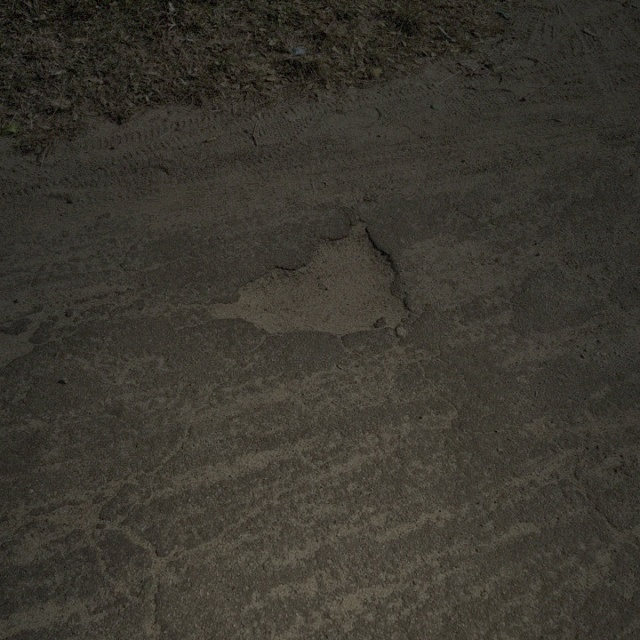pothole: (204, 214, 414, 342)
